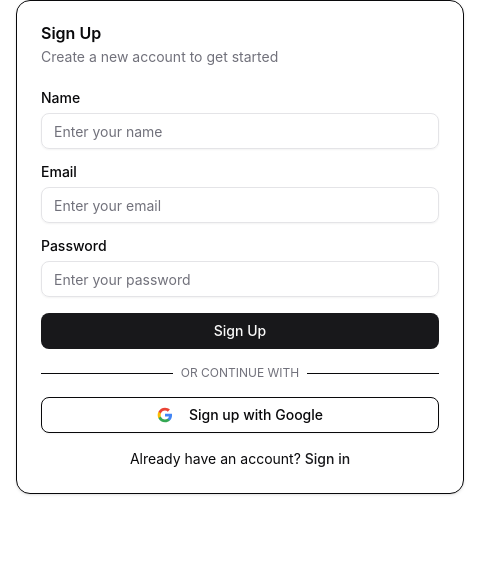
SignUpForm › shows server error on sign up failure
Type "John Doe" into the field with placeholder "Enter your name".
click(240, 131); type("John Doe")  # box [41,113,439,149]
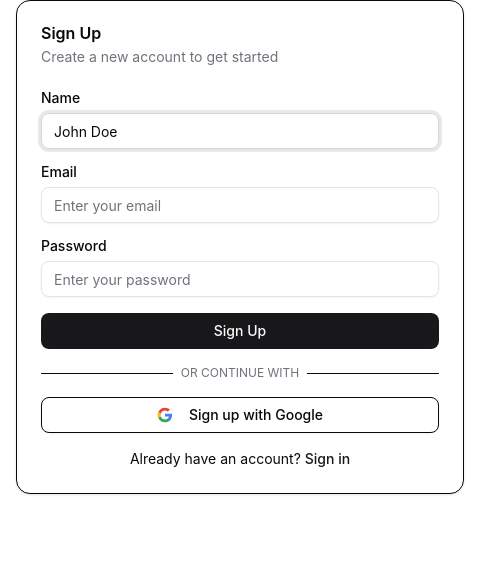
Type "test@example.com" into the field with placeholder "Enter your email".
click(240, 205); type("test@example.com")  # box [41,187,439,223]
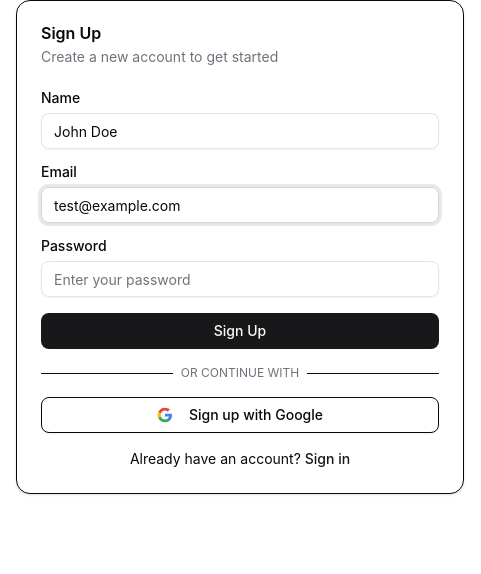
Type "password123" into the password field with placeholder "Enter your password".
click(240, 279); type("password123")  # box [41,261,439,297]
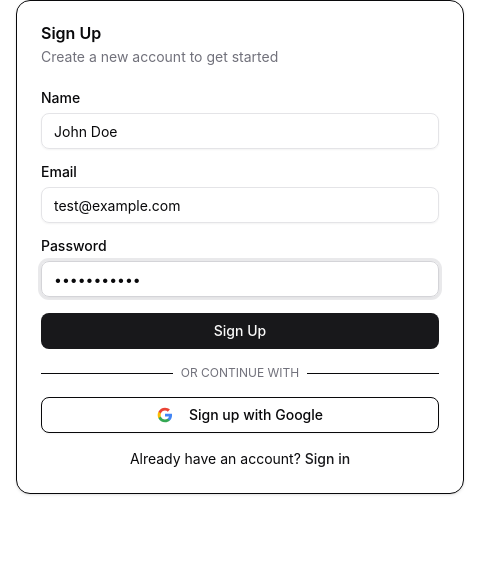
Click the button "Sign Up".
click(240, 331)  # box [41,313,439,349]
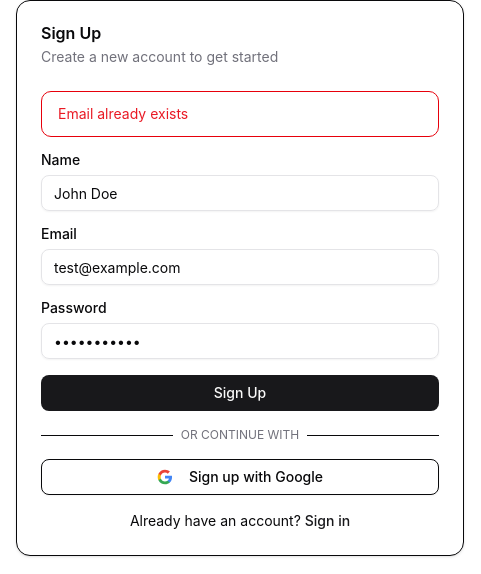
Result: the text "Email already exists" is shown at [58,105,188,122]
